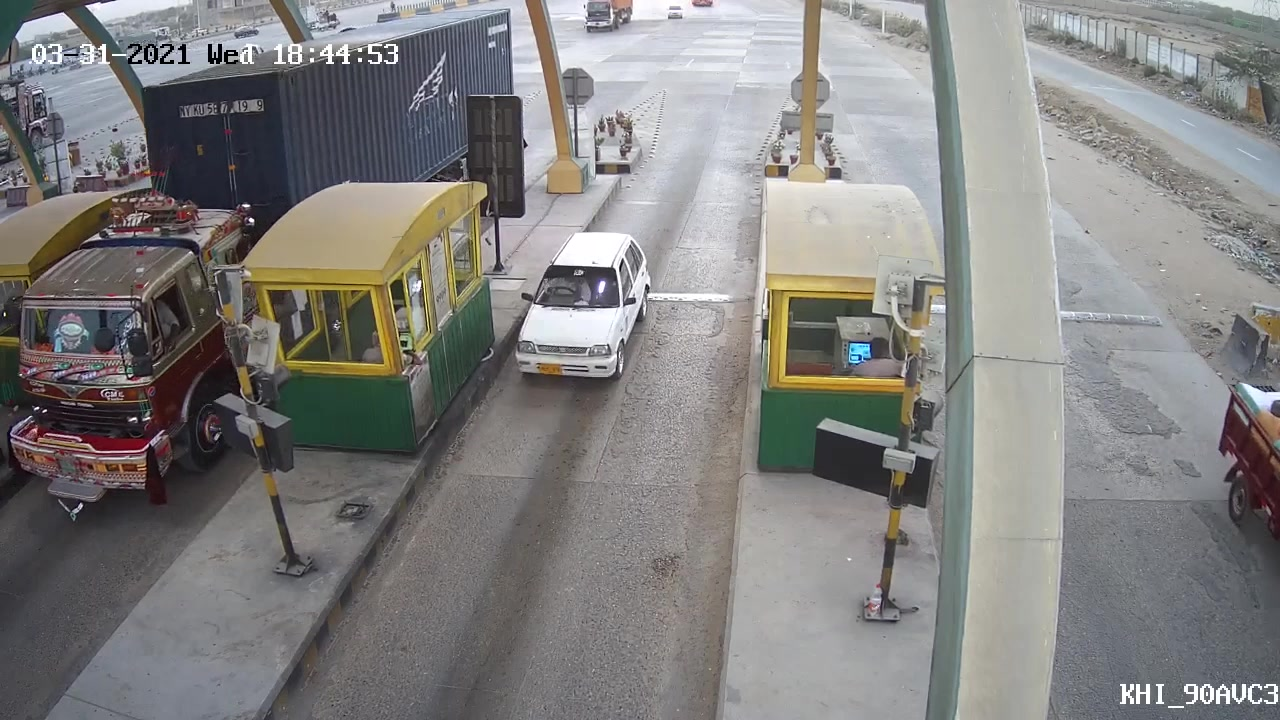F1: (497, 226, 652, 383)
